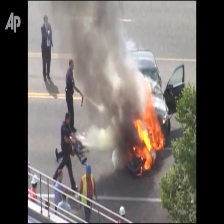fire_h: (133, 79, 165, 150), (133, 145, 153, 170)
fire_l: (137, 166, 143, 175)
